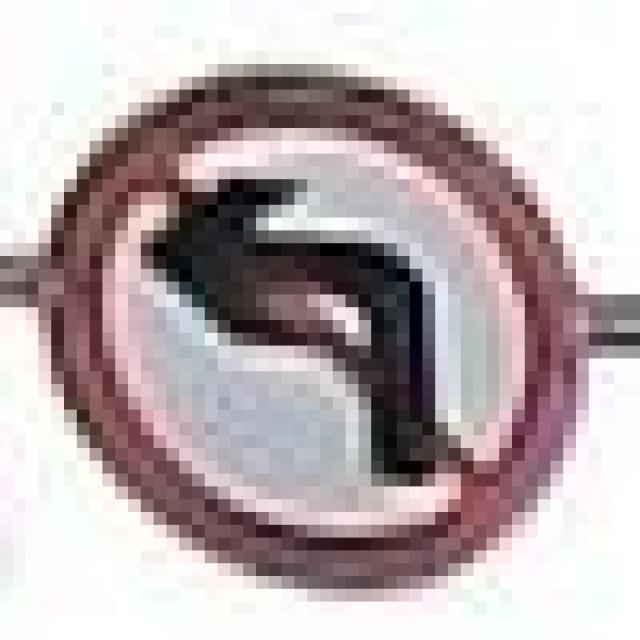left turn prohibited: (34, 58, 591, 601)
